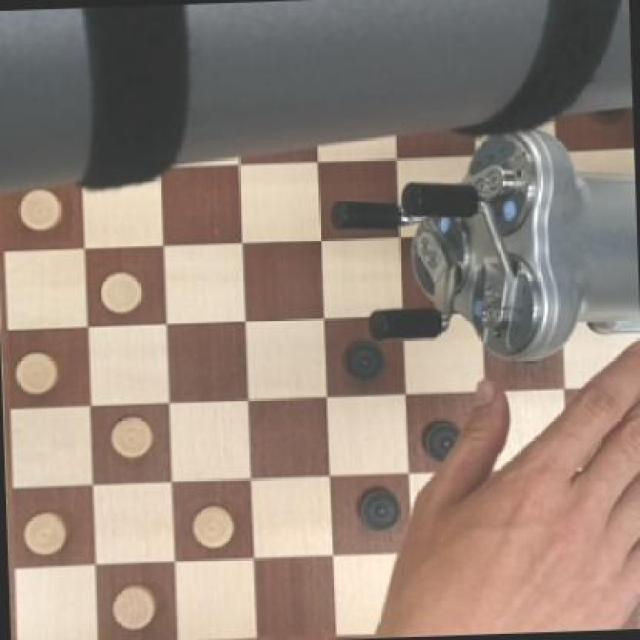black: (353, 480, 404, 532), (339, 336, 389, 388)
white: (100, 406, 156, 465), (8, 346, 64, 396), (13, 191, 68, 238), (186, 499, 233, 552), (112, 578, 156, 634), (22, 509, 68, 561), (94, 270, 145, 316)
